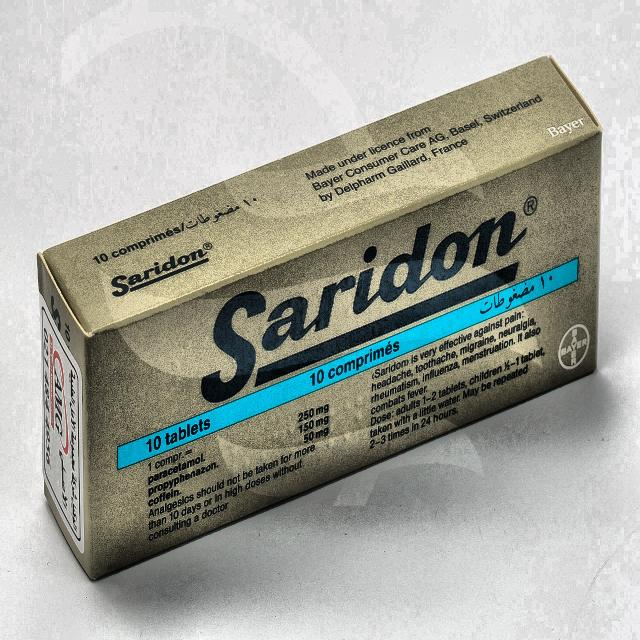Saridon: (183, 162, 556, 419)
